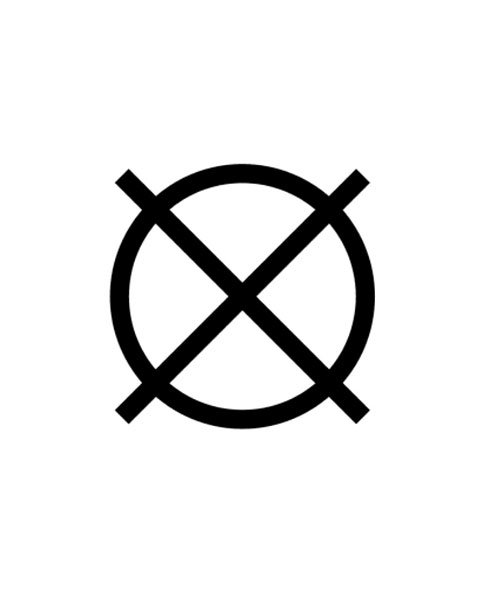do_not_dry_clean: (99, 148, 386, 436)
